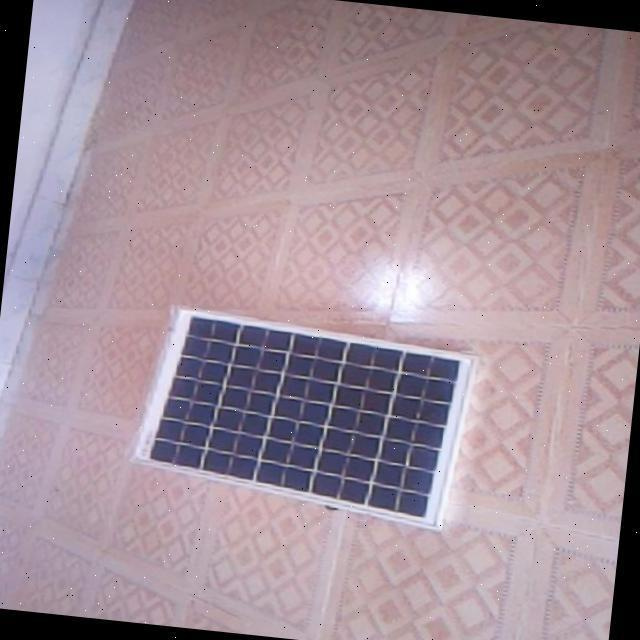Normal Solar Panel: (126, 304, 478, 532)
